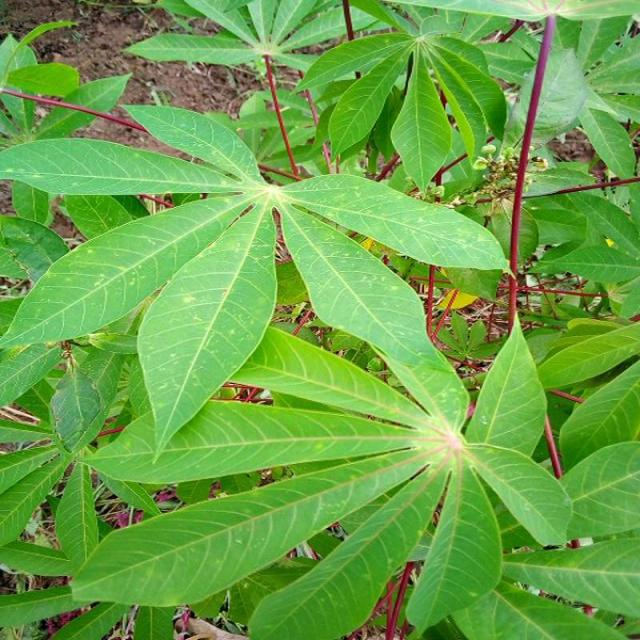cassava leaf: (0, 2, 638, 637), (134, 193, 278, 462)
